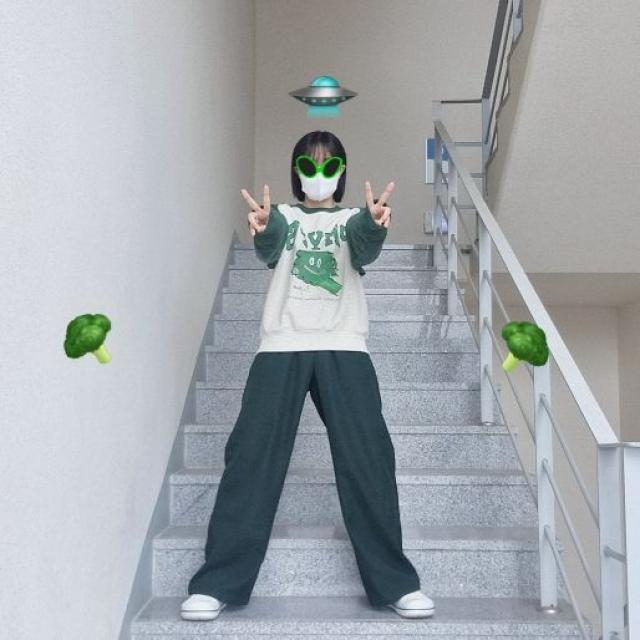longsleeve: (253, 202, 390, 351)
slacks: (189, 347, 423, 606)
